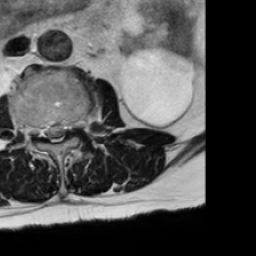CCS_stenosis: (53, 113, 61, 150)
LFS_normal: (69, 107, 78, 140)
LLS_normal: (61, 111, 69, 145)
RFS_normal: (34, 114, 43, 146)
RLS_normal: (43, 114, 53, 146)
